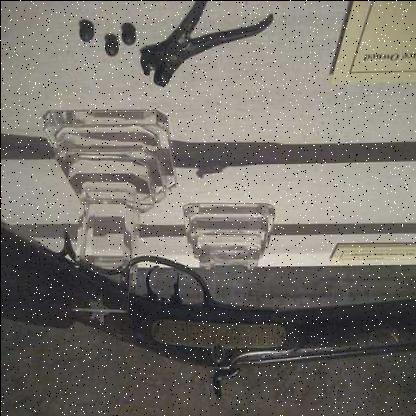rifle: (8, 202, 416, 396)
